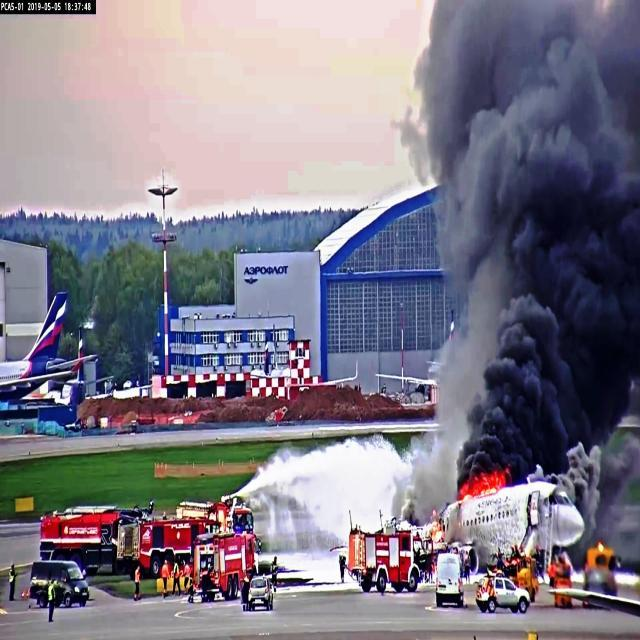Fire: (456, 460, 508, 500)
Smoke: (420, 0, 639, 465)
